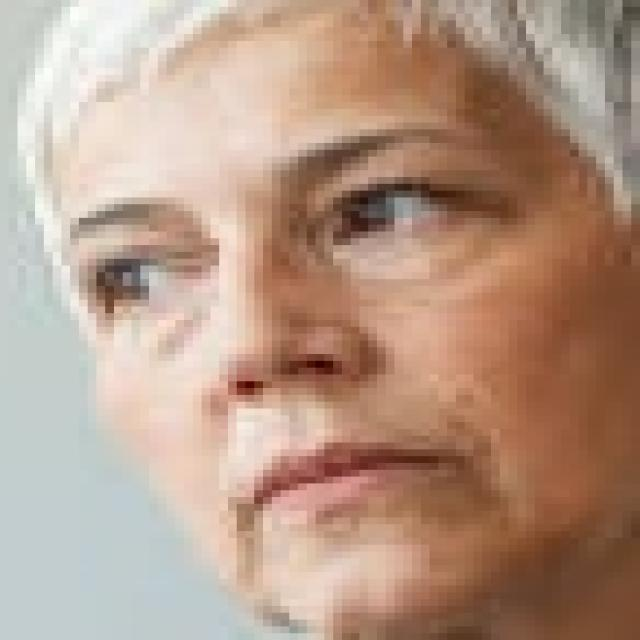Anxiety: (43, 12, 638, 621)
